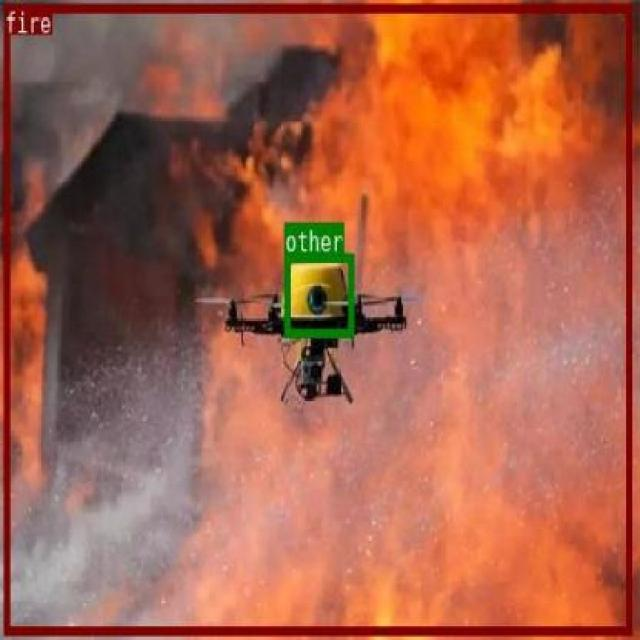fire: (3, 3, 631, 634)
